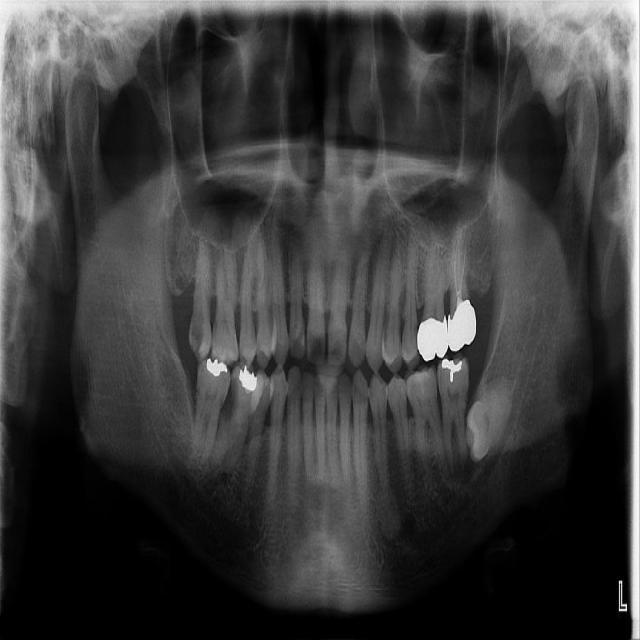Caries: (191, 313, 203, 360), (226, 386, 236, 427)
Crown: (447, 300, 476, 352), (417, 316, 449, 361)
Filling: (439, 353, 464, 382), (237, 367, 260, 392), (204, 357, 229, 375)
Root Canal Treatment: (460, 240, 466, 288), (455, 242, 457, 295)
impacted tooth: (464, 367, 515, 462)
